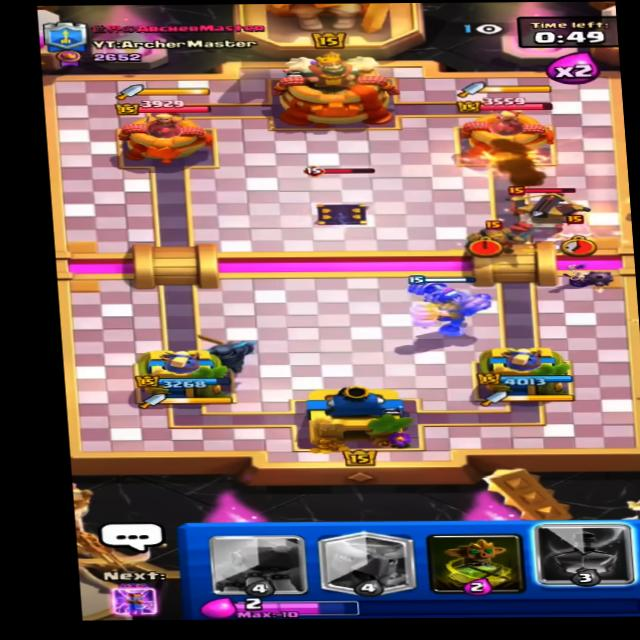electro-spirit: (548, 215, 595, 246)
evo-tesla-closed: (291, 163, 387, 227)
knight: (443, 218, 520, 260)
x-bow: (489, 181, 596, 237)
